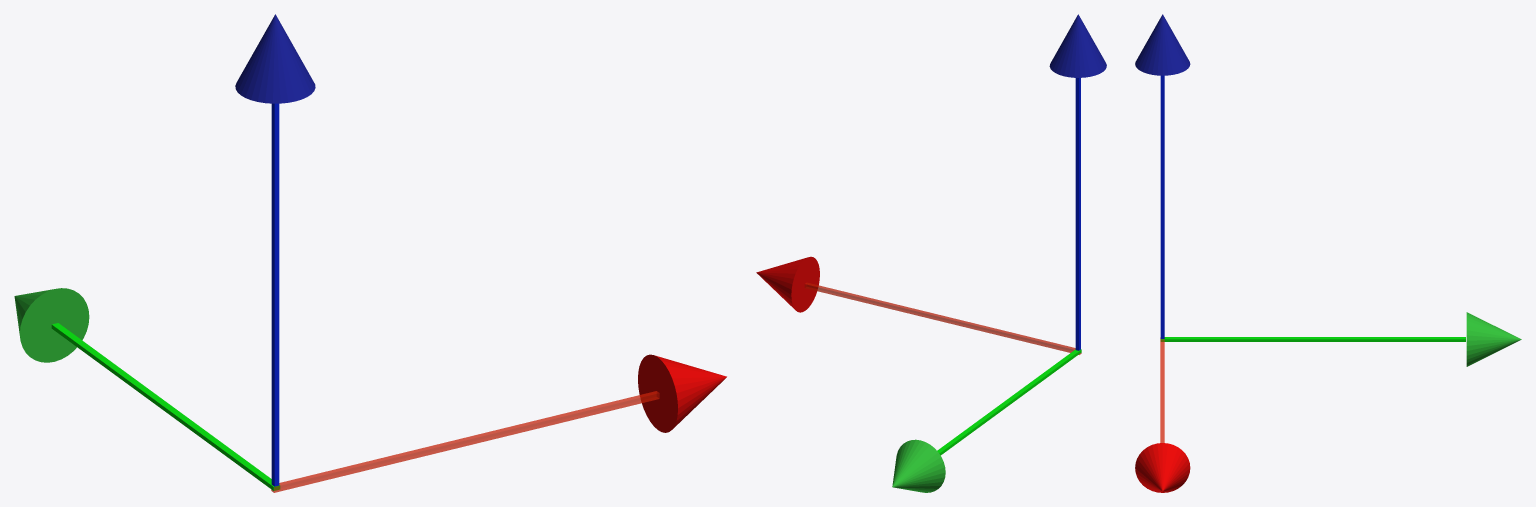
Rendered from 3dTranslate.fbx.
The picture shows the model from 3 angles, left to right: view 1: azimuth 30°, elevation 25°; view 2: azimuth 150°, elevation 25°; view 3: azimuth 270°, elevation 25°; orthographic projection. The views are drawn at different scales.
Visible parts, largest first — view 1: Cone.002, Cone.001, Cone, Cube.002, Cube.001, Cube; view 2: Cone.002, Cone.001, Cone, Cube.002, Cube.001, Cube; view 3: Cone.001, Cone, Cone.002, Cube, Cube.001, Cube.002.
Part boxes in pixels (x1,y1,x2,y2): Cone.002: [14, 288, 89, 362]; Cone.001: [638, 354, 726, 432]; Cone: [235, 14, 315, 103]; Cube.002: [271, 391, 659, 492]; Cube.001: [271, 103, 279, 486]; Cube: [51, 323, 280, 490]; Cone.002: [892, 439, 945, 492]; Cone.001: [756, 256, 819, 312]; Cone: [1049, 14, 1106, 77]; Cube.002: [804, 282, 1081, 354]; Cube.001: [1075, 78, 1080, 350]; Cube: [937, 349, 1081, 455]; Cone.001: [1135, 443, 1190, 492]; Cone: [1135, 14, 1190, 75]; Cone.002: [1466, 312, 1521, 366]; Cube: [1160, 337, 1465, 341]; Cube.001: [1160, 75, 1164, 338]; Cube.002: [1160, 337, 1164, 442].
Size of the model in its own units: 1400 by 1400 by 1400.
